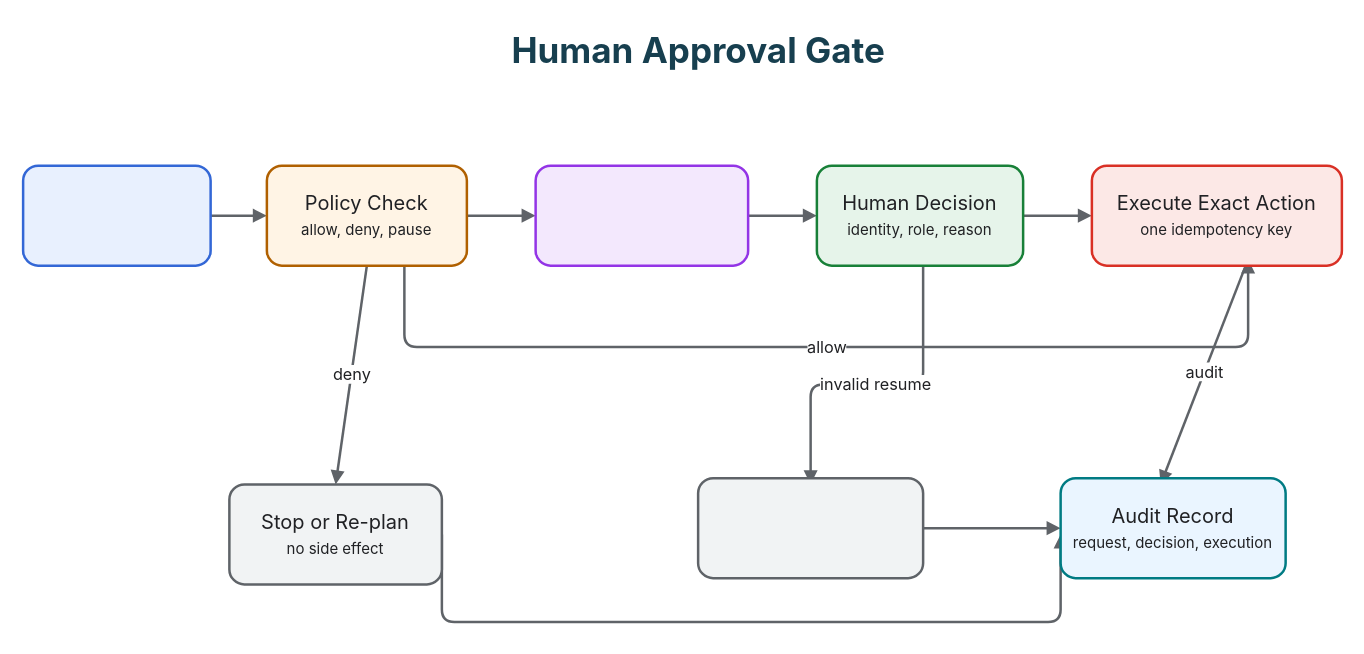
Image size: 1364x654. Some labels were removed from this diagram. The centre of each missing label's shape, as x and y in pixels:
Durable Pause exact action + evidence: the point at 641,215
Proposed Action tool, args, resource: the point at 116,215
Reject Resume new approval required: the point at 810,527
